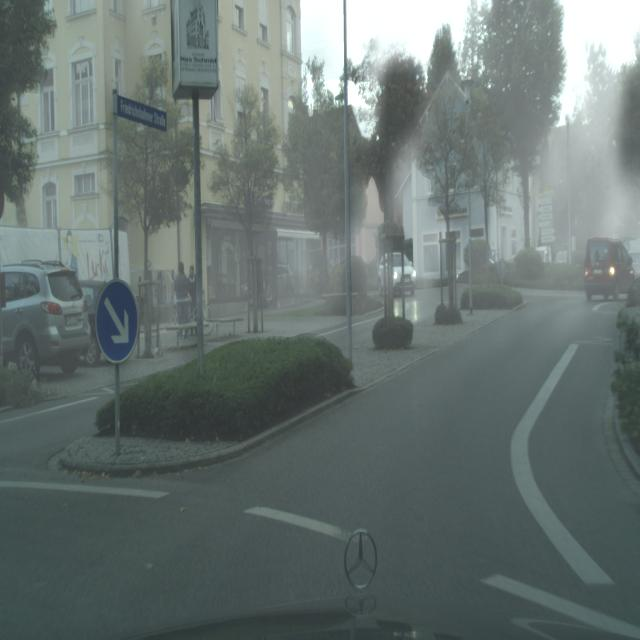bus: (174, 261, 192, 337), (187, 264, 197, 321)
person: (0, 261, 91, 379), (584, 238, 635, 302), (378, 251, 416, 298)
